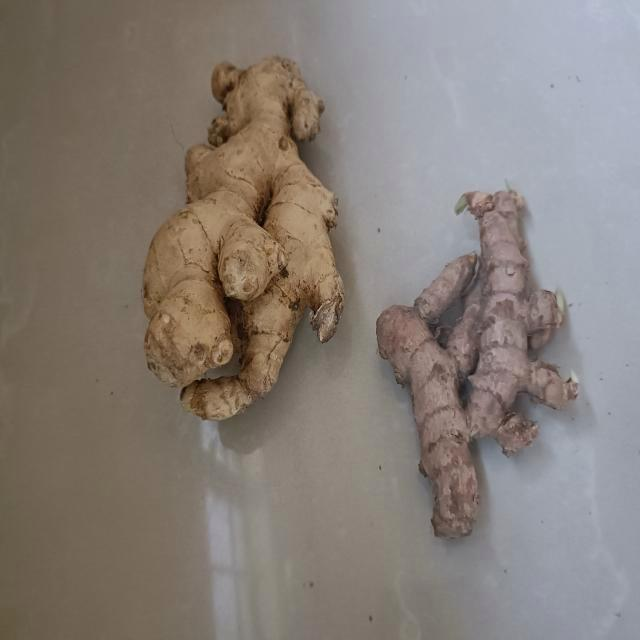ginger: (129, 48, 347, 424), (372, 182, 588, 544)
